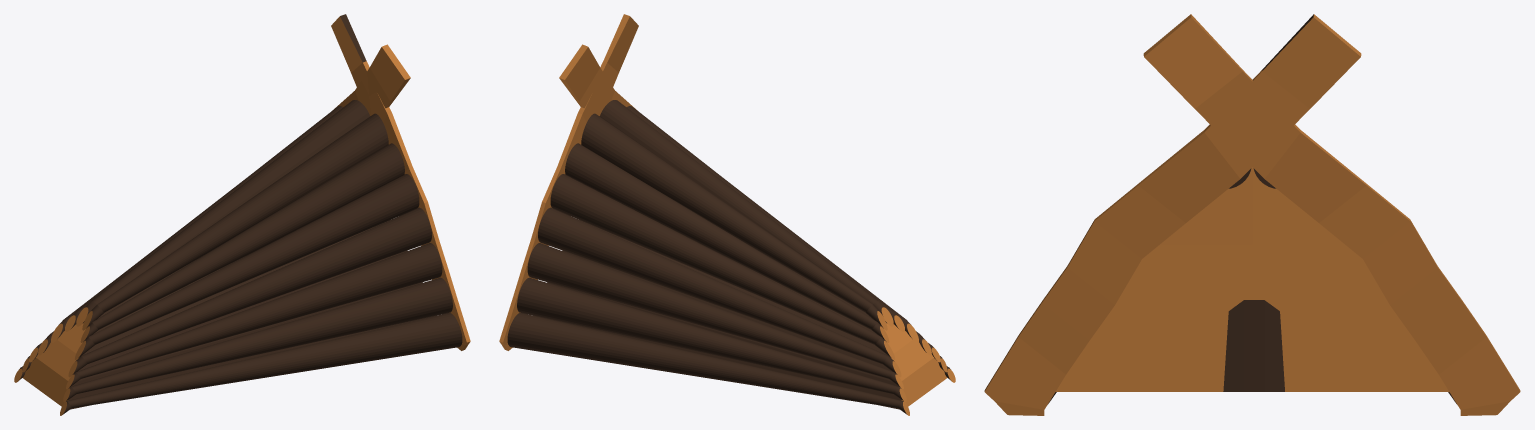
File: Low-poly elf house.fbx
The picture shows the model from 3 angles, left to right: view 1: azimuth 30°, elevation 25°; view 2: azimuth 150°, elevation 25°; view 3: azimuth 270°, elevation 25°; orthographic projection. The views are drawn at different scales.
Visible parts, largest first — view 1: Халупа; view 2: Халупа; view 3: Халупа.
Part boxes in pixels (<box>): Халупа: <box>14,14,470,415</box>; Халупа: <box>499,14,955,415</box>; Халупа: <box>984,14,1520,415</box>.
Size of the model in its own units: 1901 by 1524 by 1738.
